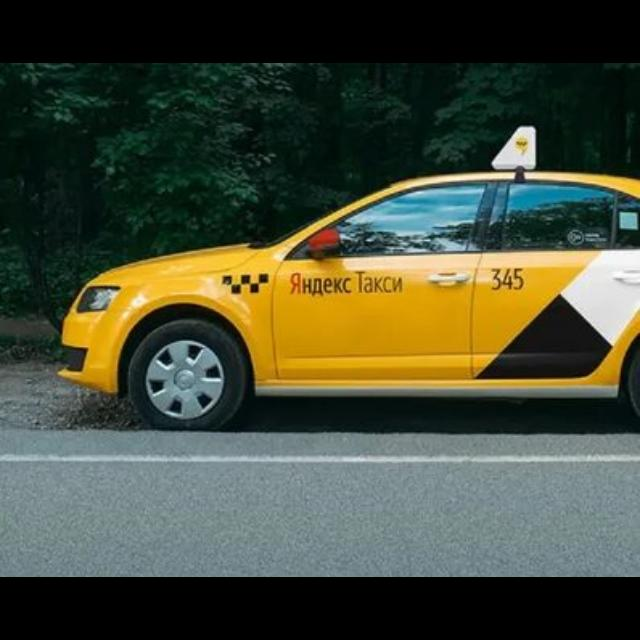taxi: (57, 125, 639, 433)
